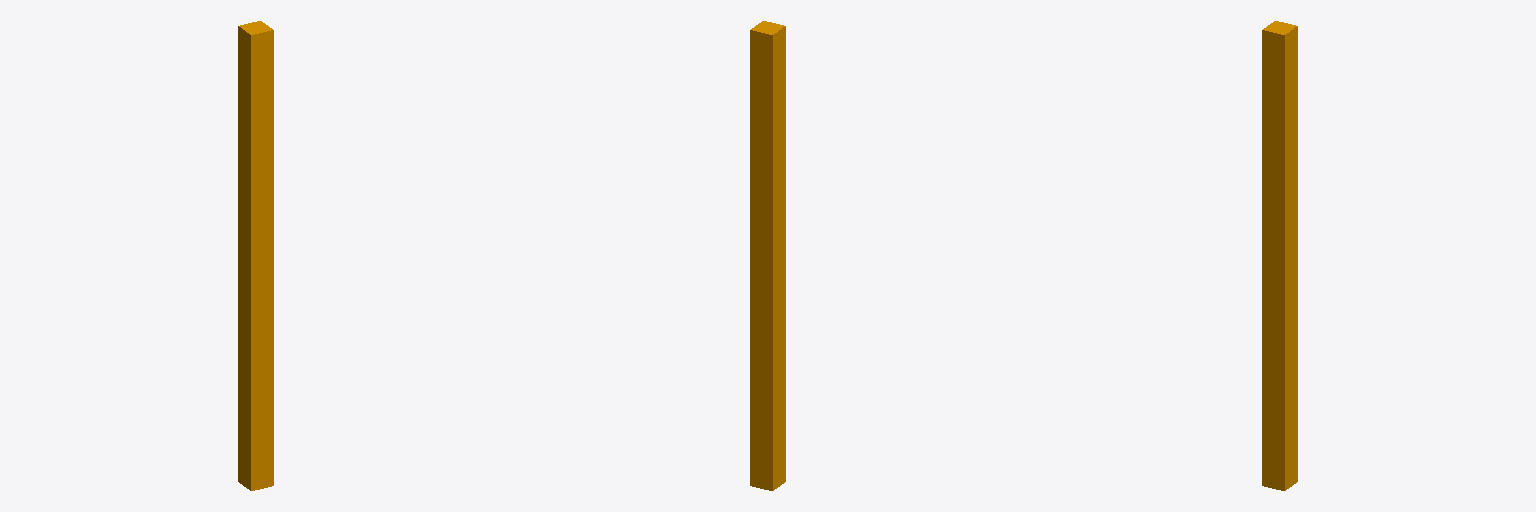
URDF robot description (myfirst):
<?xml version="1.0"?>
<robot name="myfirst">
  <link name="base_link">
    <visual>
      <geometry>
        <box size="0.06 0.06 1.176"/>
      </geometry>
      <material name="dark_gray"/>
      <origin xyz="1 0 0"/>
    </visual>
    <collision>
      <geometry>
        <box size="0.06 0.06 1.176"/>
      </geometry>
      <origin xyz="1 0 0"/>
    </collision>
    <inertial>
      <mass value="10"/>
      <inertia ixx="1.0" ixy="0.0" ixz="0.0" iyy="1.0" iyz="0.0" izz="1.0"/>
      <origin xyz="1 0 0"/>
    </inertial>
  </link>
</robot>

--- Render facts (derived) ---
The picture shows the robot from 3 angles, left to right: view 1: azimuth 30°, elevation 25°; view 2: azimuth 150°, elevation 25°; view 3: azimuth 330°, elevation 25°; orthographic projection.
Model myfirst with 1 links and 0 joints (none), rooted at base_link, posed all joints at 0.
Links seen in each view (by area): view 1: base_link; view 2: base_link; view 3: base_link.
Boxes of the visible links, <box> form: base_link: <box>238,21,273,490</box>; base_link: <box>750,21,785,490</box>; base_link: <box>1262,21,1297,490</box>.
Size in the robot's own frame: 0.06 by 0.06 by 1.18 metres.
Geometry: primitives only (box / cylinder / sphere), no mesh files.
